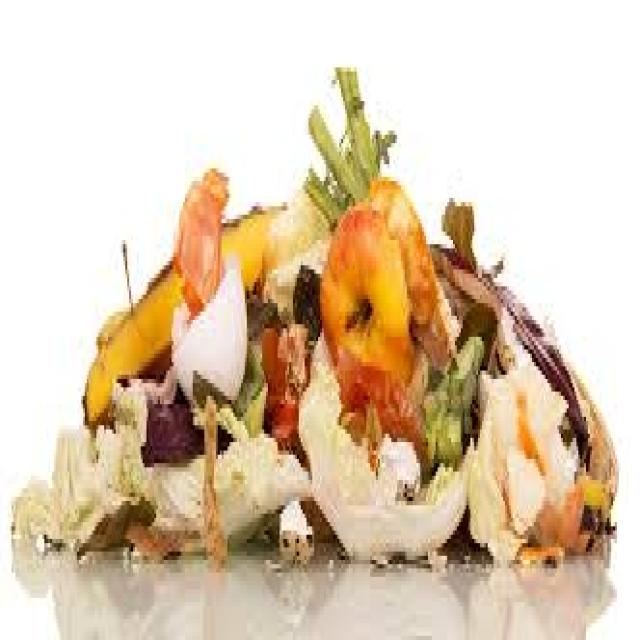food_waste: (45, 174, 585, 536)
